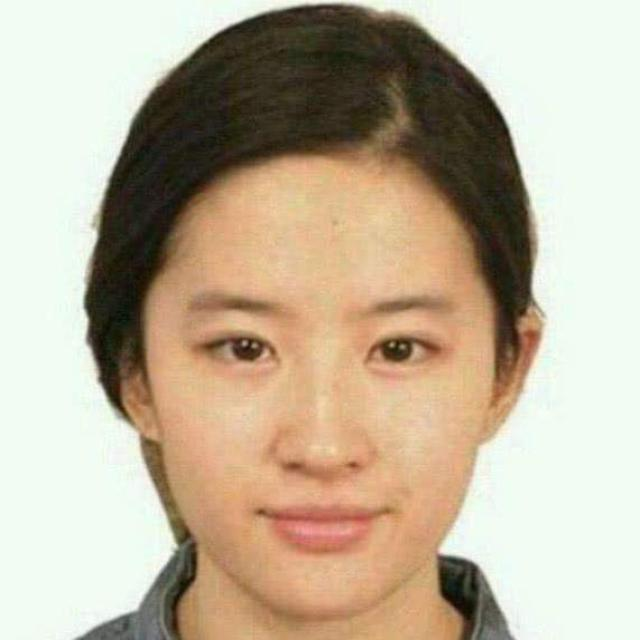Open: (198, 329, 278, 367), (363, 331, 441, 368)
